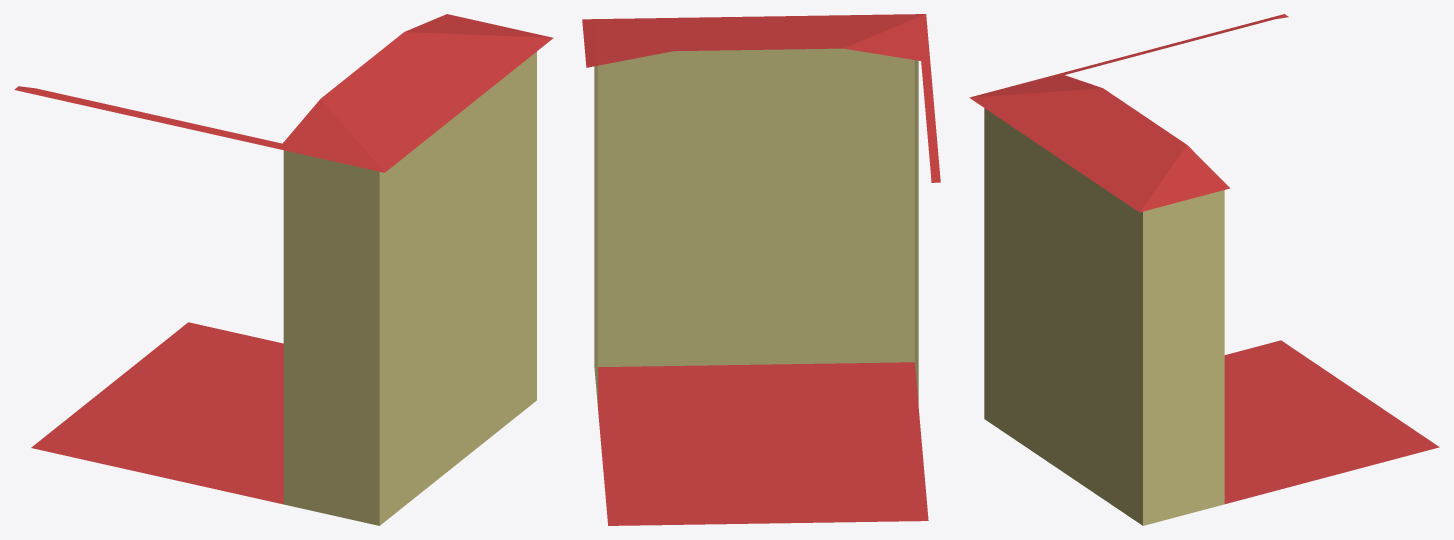
3 renders of one model, left to right at view 1: azimuth 30°, elevation 25°; view 2: azimuth 150°, elevation 25°; view 3: azimuth 270°, elevation 25°, orthographic. The views are drawn at different scales.
Bounding box in the file's own units: 10.68 × 10.7 × 8.38.
